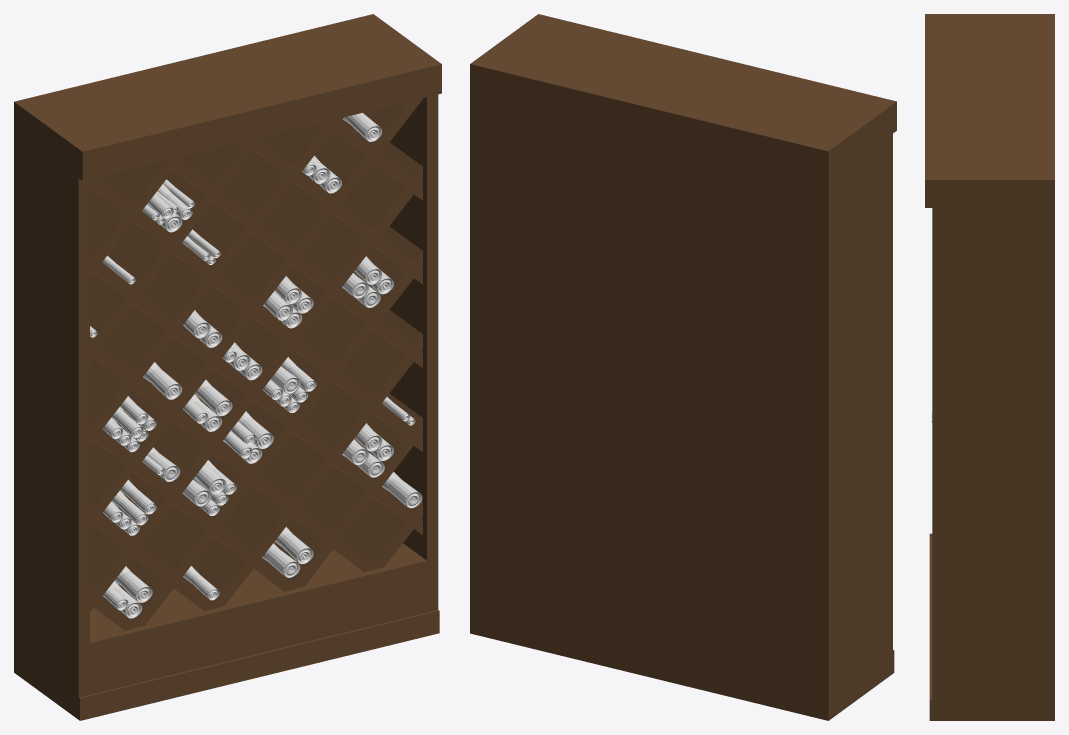
File: Scrollshelf_001.fbx
The picture shows the model from 3 angles, left to right: view 1: azimuth 30°, elevation 25°; view 2: azimuth 150°, elevation 25°; view 3: azimuth 270°, elevation 25°; orthographic projection. The views are drawn at different scales.
Parts seen in each view (by area): view 1: scrollshelf_001; view 2: scrollshelf_001; view 3: scrollshelf_001.
Boxes of the visible parts, <box> form: scrollshelf_001: <box>14,14,441,720</box>; scrollshelf_001: <box>470,14,896,720</box>; scrollshelf_001: <box>925,14,1054,720</box>.
Bounding box in the file's own units: 200 × 304 × 66.07.
